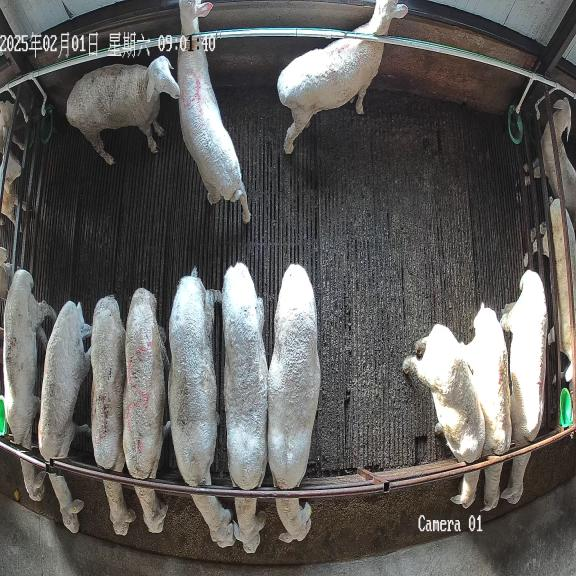eating: (168, 268, 235, 548), (403, 324, 486, 508), (267, 264, 320, 542), (222, 263, 268, 553), (3, 269, 56, 501), (38, 301, 91, 533), (500, 270, 547, 504), (123, 288, 168, 532), (91, 295, 135, 536), (466, 303, 512, 512)
stand: (277, 0, 408, 154), (178, 0, 250, 223), (66, 56, 179, 165)
